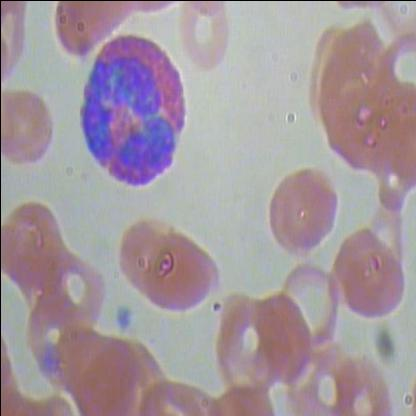Platelets: (109, 302, 134, 334)
RBC: (204, 294, 292, 398), (140, 225, 217, 320), (332, 225, 409, 320), (112, 204, 189, 298), (271, 263, 337, 362), (40, 242, 108, 338), (0, 194, 67, 290), (320, 81, 384, 176), (276, 166, 340, 260), (45, 1, 140, 60), (71, 338, 143, 415), (1, 85, 59, 173), (177, 1, 242, 78), (286, 343, 355, 415), (327, 343, 395, 415), (372, 24, 415, 128), (371, 95, 415, 195), (266, 169, 309, 263)
WBC: (71, 29, 195, 195)
